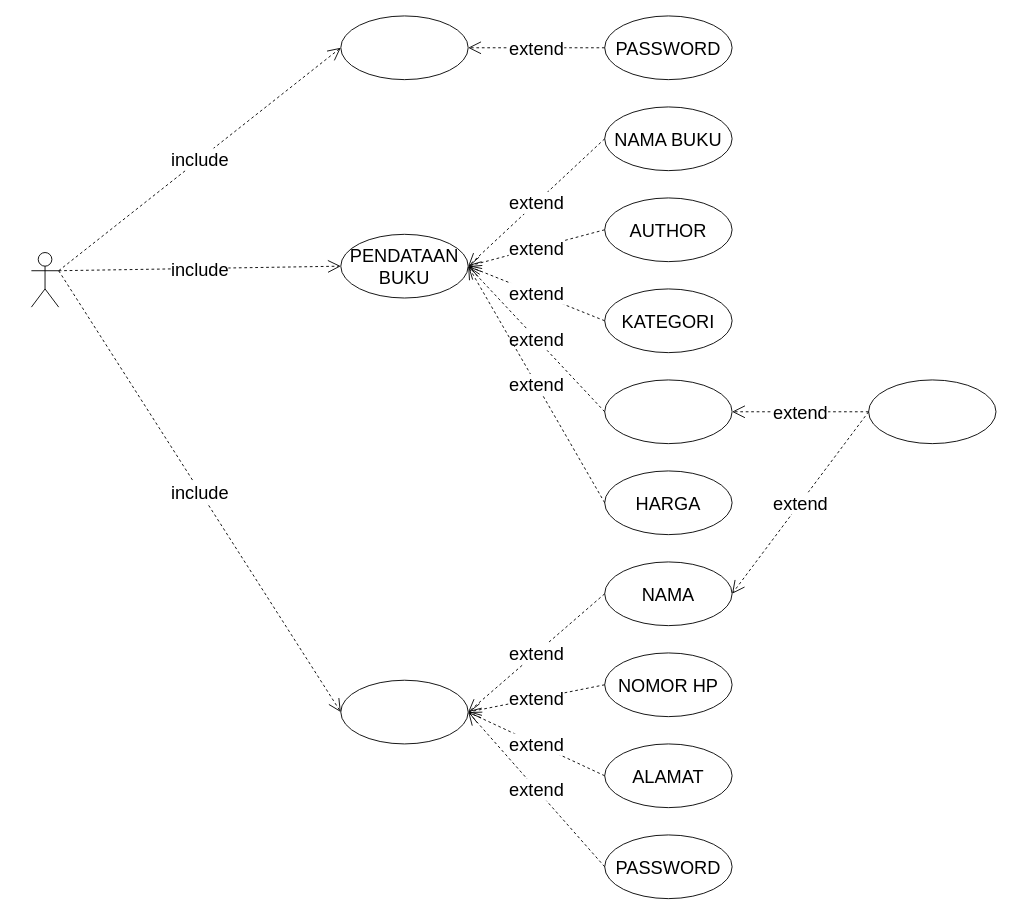
Some shapes in this 1012 by 915 pixel diagram are drawn without their labels. Each missing label, with the centre of its shape:
ADMIN: the point at 44,279
DASHBOARD: the point at 932,411
JUMLAH: the point at 668,411
LOGIN: the point at 404,47
PENDATAAN USER: the point at 404,711
